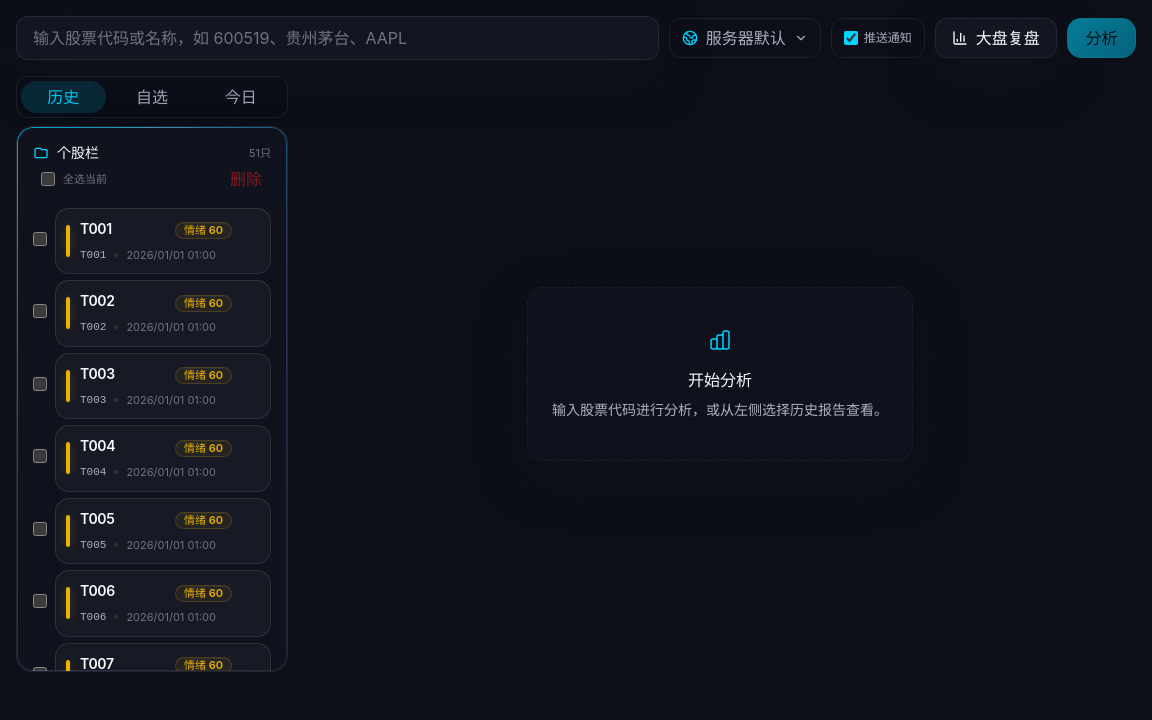
HomePage › stops when a successful batch response does not account for every requested stock
This screenshot has width=1152, height=720.
Click the button "自选": (152, 97) [110,81,194,113]
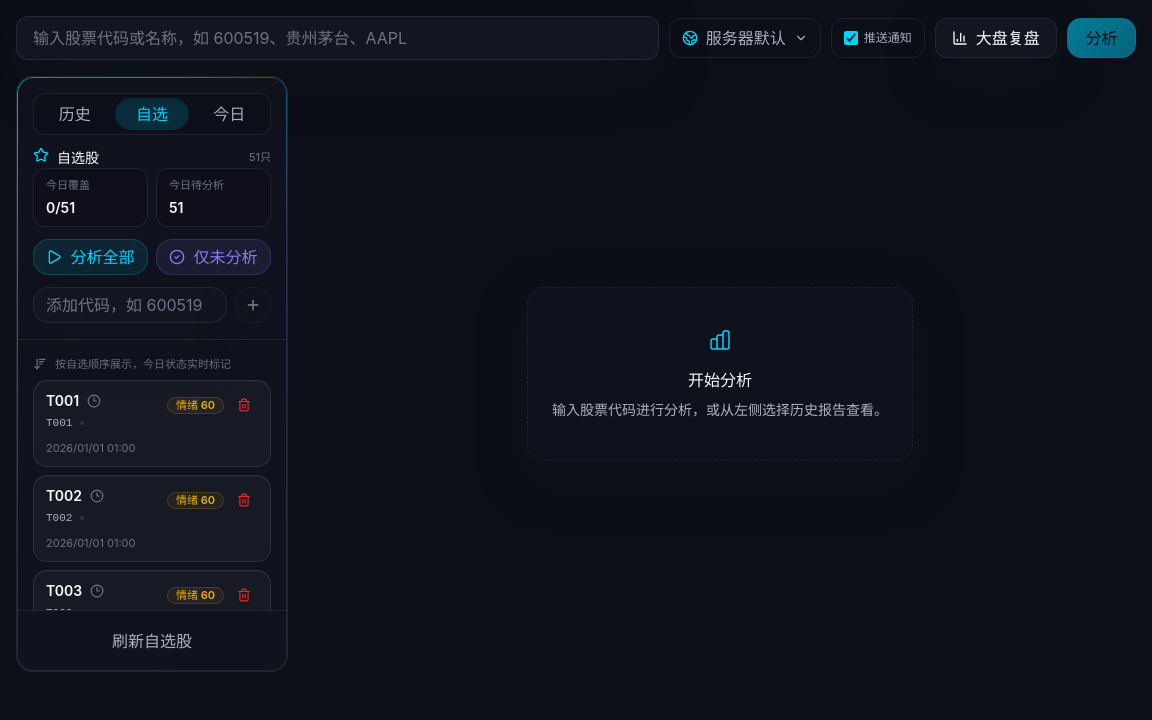
Click the button "分析全部": (90, 256) [33,238,148,274]
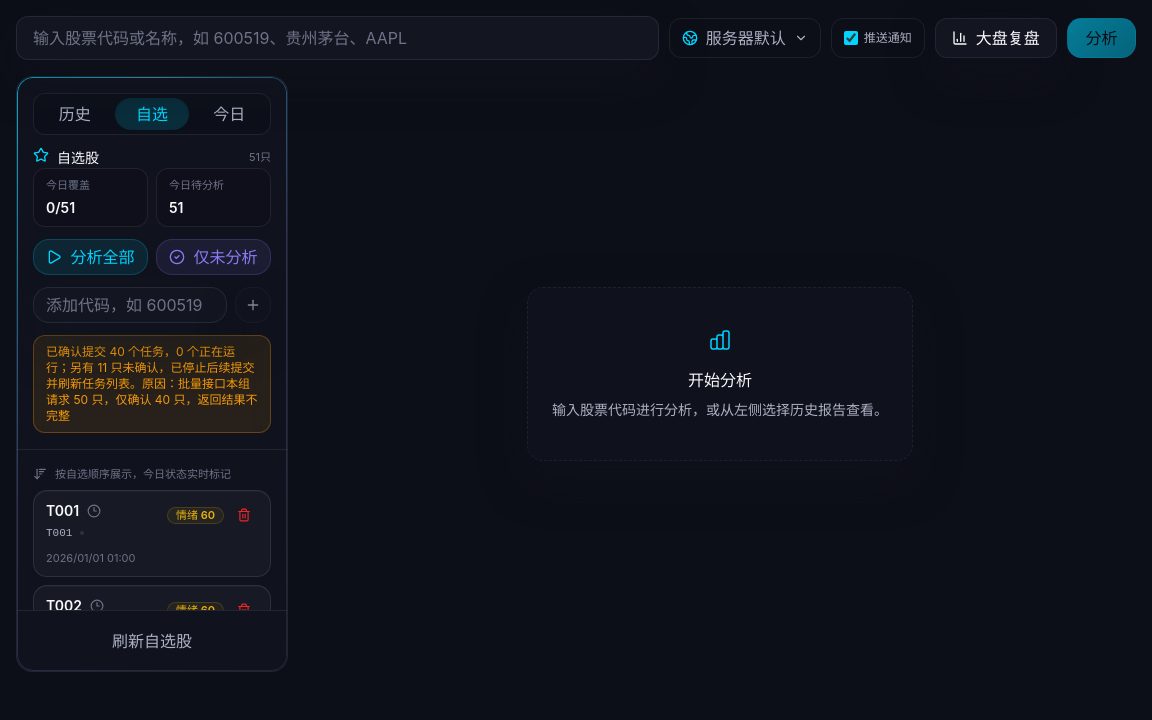
Expected: the text "已确认提交 40 个任务，0 个正在运行；另有 11 只未确认" shows "本组请求 50 只，仅确认 40 只", [46,344,258,422]
